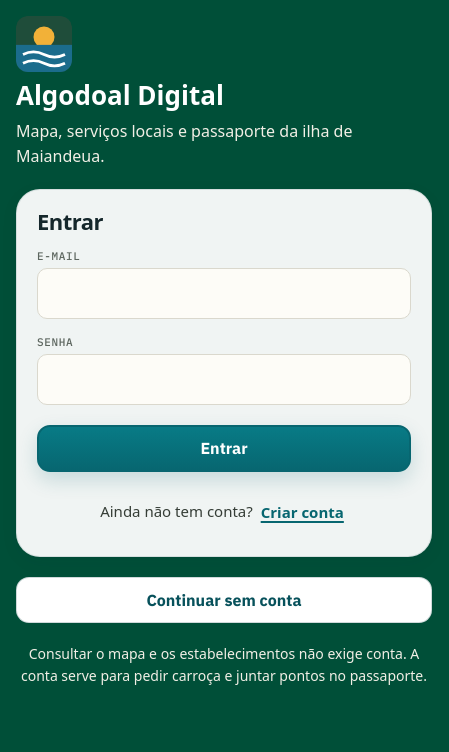
Test: formulário de acesso › mostra erro de campo obrigatório ao enviar vazio, ligado ao input
This screenshot has width=449, height=752.
Click the button "Entrar" at (224, 449), box 37,425 -> 411,472
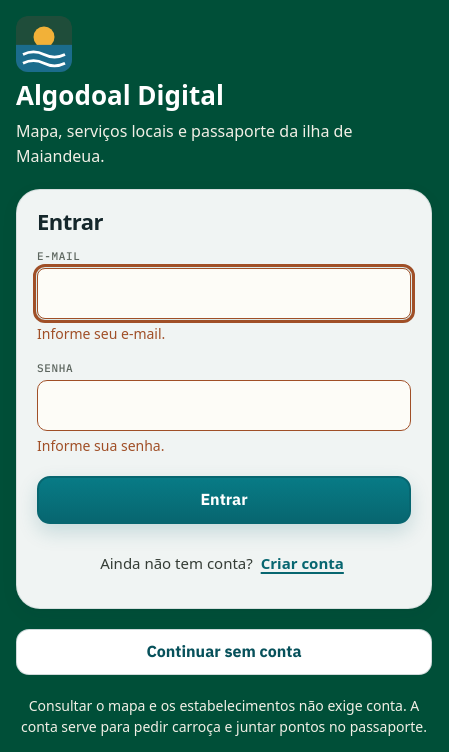
Result: the text "Informe seu e-mail." is shown at 37,324 -> 165,343
Result: the text "Informe sua senha." is shown at 37,436 -> 164,455
